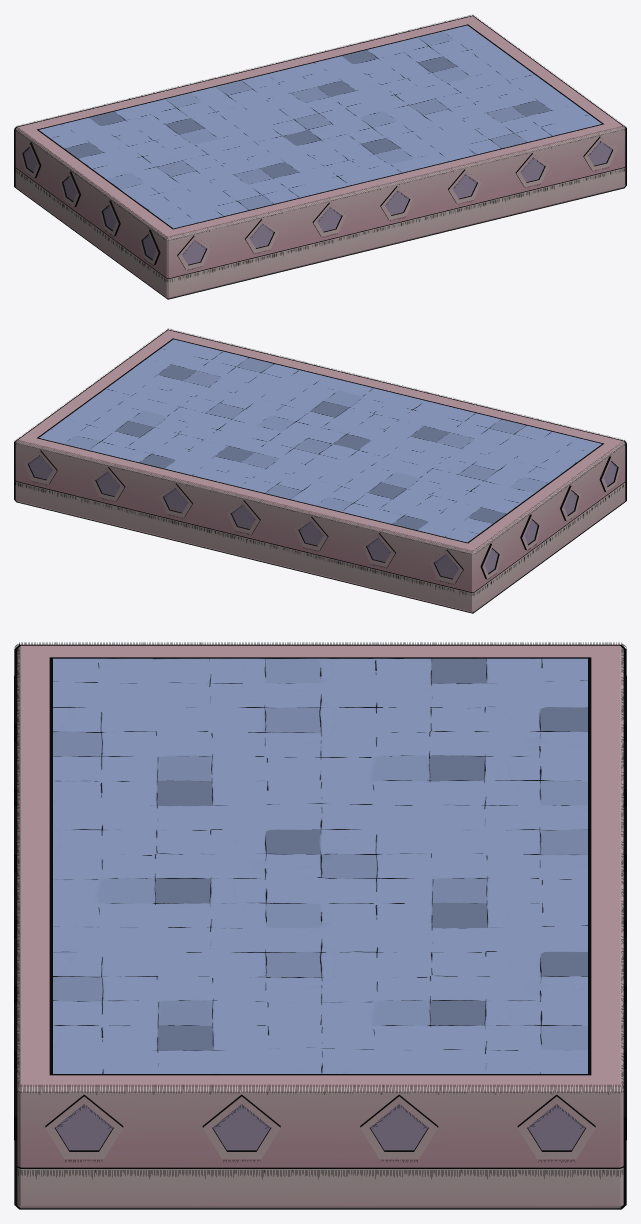
The model's file is Roof_01.glb.
3 renders of one model, top to bottom at view 1: azimuth 30°, elevation 25°; view 2: azimuth 150°, elevation 25°; view 3: azimuth 270°, elevation 25°, orthographic. The views are drawn at different scales.
Parts seen in each view (by area): view 1: Roof_01; view 2: Roof_01; view 3: Roof_01.
Boxes of the visible parts, bbox=[...] form: Roof_01: bbox=[14, 14, 626, 299]; Roof_01: bbox=[14, 328, 626, 613]; Roof_01: bbox=[14, 642, 626, 1209].
Bounding box in the file's own units: 9.8 × 1.28 × 5.67.
Materials: 4 (3 with a texture image).
